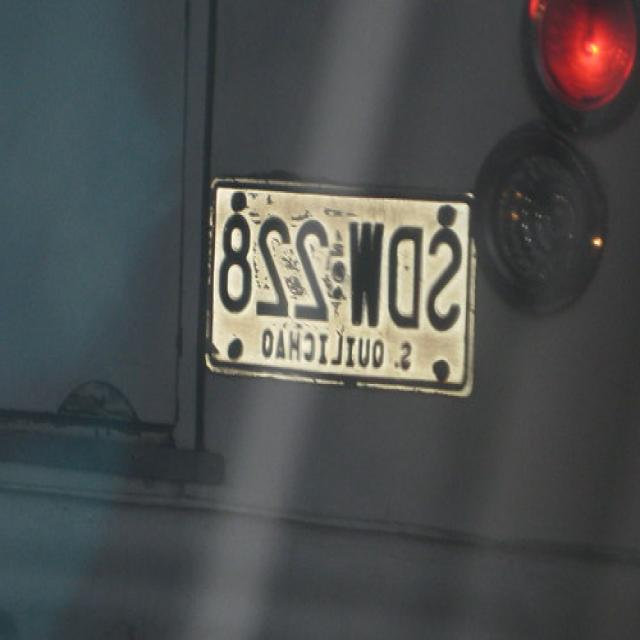placas: (217, 204, 466, 338)
